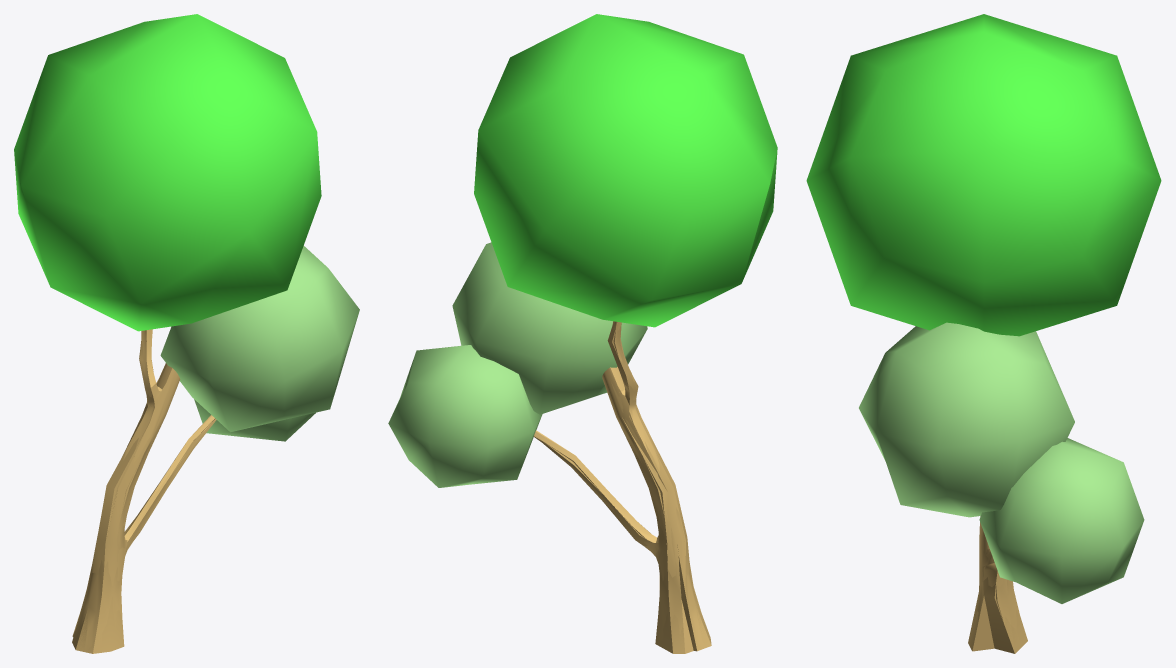
File: tree4.fbx
3 renders of one model, left to right at view 1: azimuth 30°, elevation 25°; view 2: azimuth 150°, elevation 25°; view 3: azimuth 270°, elevation 25°, orthographic. The views are drawn at different scales.
Visible parts, largest first — view 1: pCube2, pCube3, tree_19, tree_17, pCube1; view 2: pCube2, pCube1, pCube3, tree_17, tree_19; view 3: pCube2, pCube3, pCube1, tree_17, tree_19.
Boxes of the visible parts, left/top/right/bottom form: pCube2: left=14, top=14, right=321, bottom=331; pCube3: left=160, top=246, right=359, bottom=432; tree_19: left=73, top=329, right=216, bottom=653; tree_17: left=72, top=329, right=215, bottom=653; pCube1: left=194, top=399, right=315, bottom=441; pCube2: left=474, top=14, right=777, bottom=327; pCube1: left=388, top=345, right=542, bottom=487; pCube3: left=452, top=242, right=647, bottom=414; tree_17: left=534, top=322, right=711, bottom=653; tree_19: left=533, top=321, right=711, bottom=653; pCube2: left=806, top=14, right=1161, bottom=336; pCube3: left=859, top=322, right=1074, bottom=517; pCube1: left=979, top=438, right=1144, bottom=603; tree_17: left=968, top=516, right=1027, bottom=653; tree_19: left=972, top=523, right=1021, bottom=653.
Size of the model in its own units: 779 by 1340 by 651.
